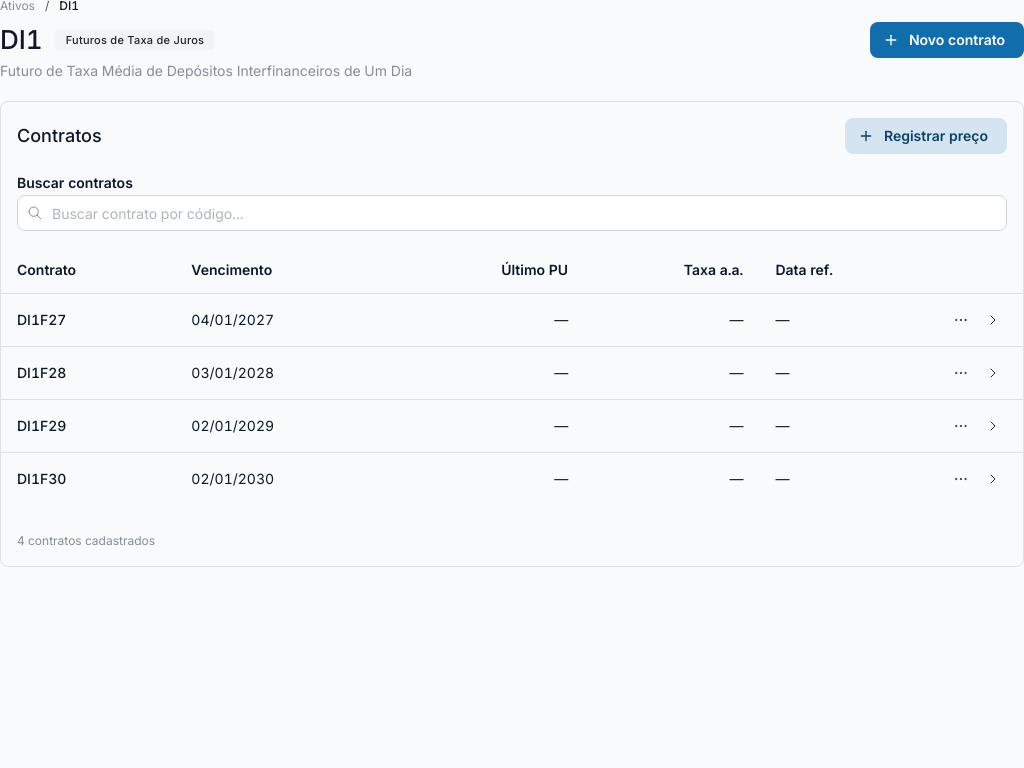
it: Ativos: preços na lista de contratos (§11.2, §5, OQ-48 item 1) › §11.2 asks for the contract before any request
The image size is (1024, 768).
Expected: the heading "DI1" is shown, [0,22,43,57]
Expected: the table named "Contratos" is shown, [1,247,1023,505]
Click the button "Registrar preço" at (926, 136), box [845,118,1007,154]
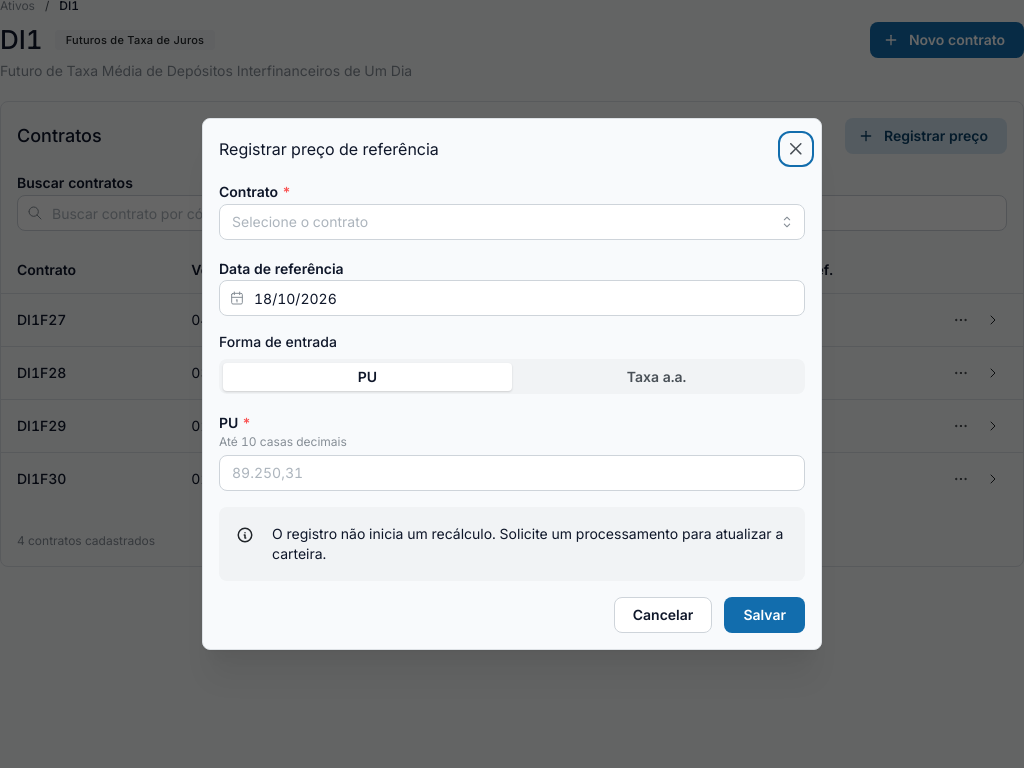
Type "80.300,00" into the field labelled "PU" at (512, 473), box [219,455,805,491]
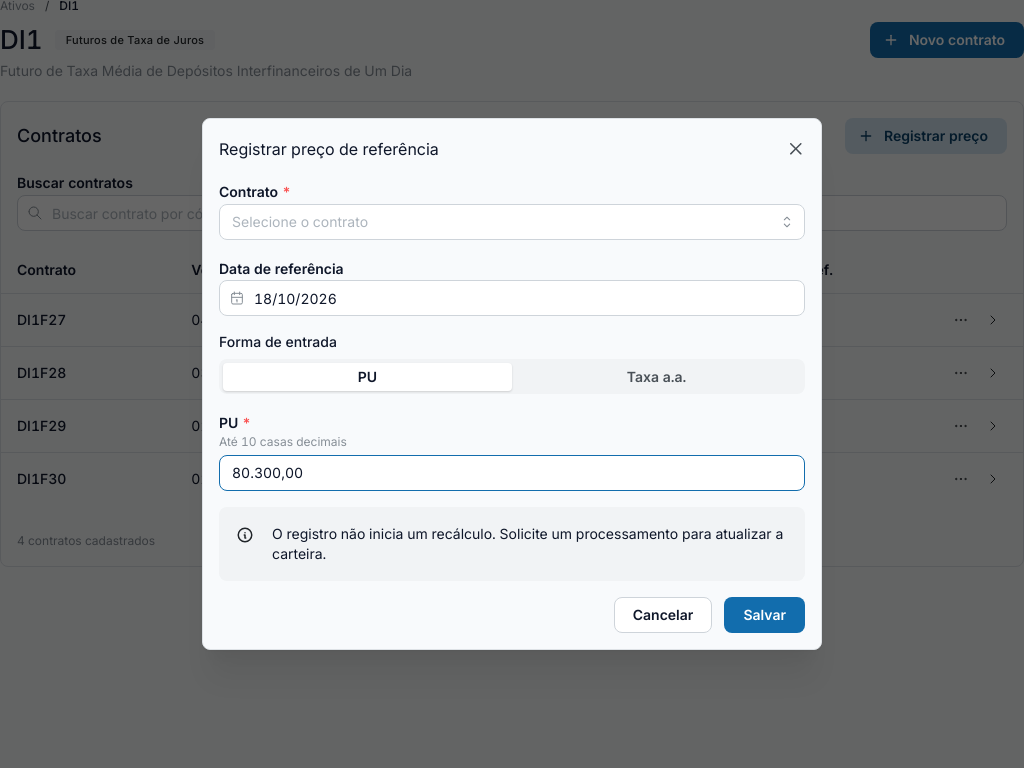
Click the button "Salvar" at (765, 615), box [724,597,805,633]
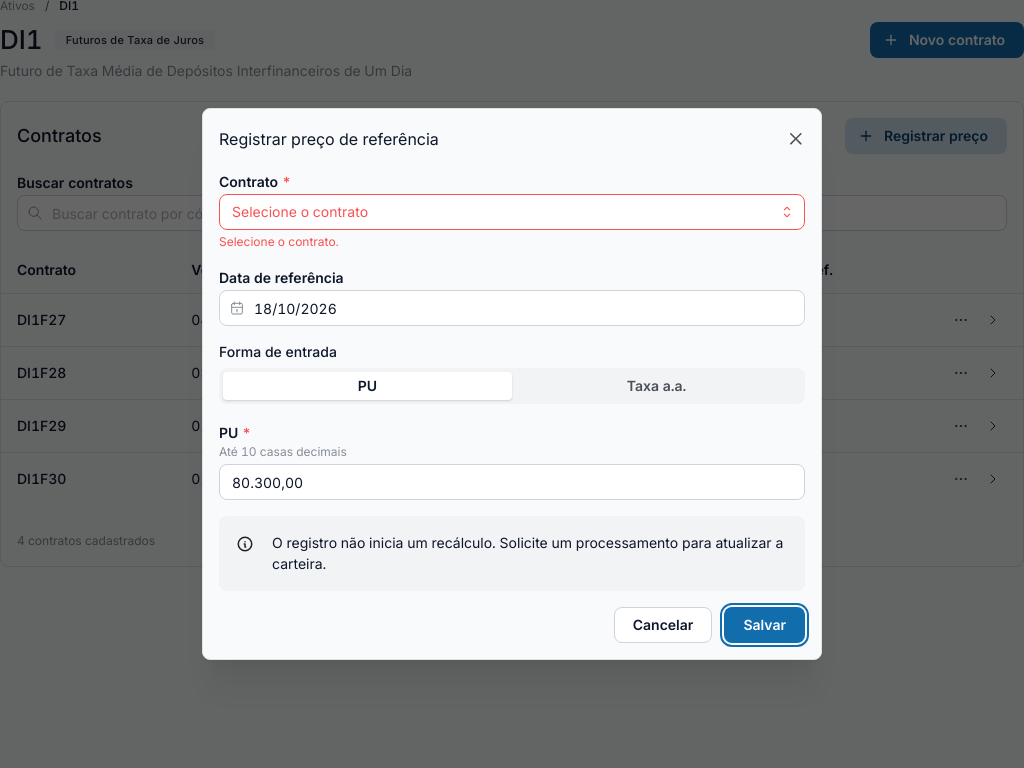
Expected: the text "Selecione o contrato." is shown, [219,234,339,249]
